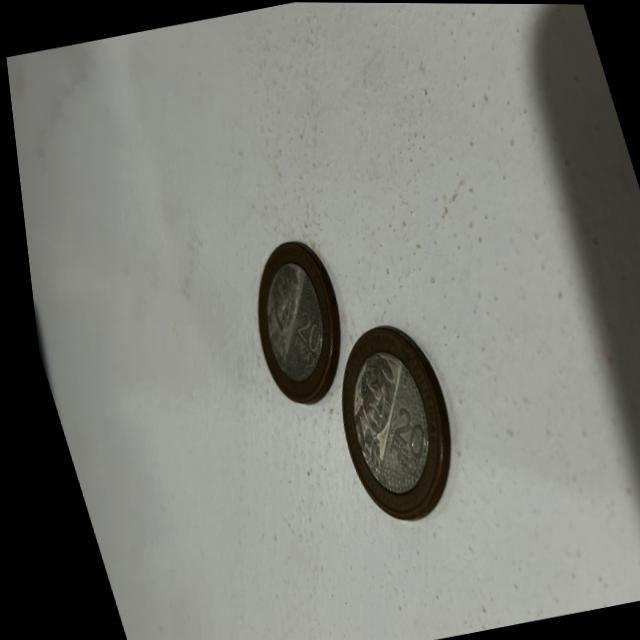20_New_Front: (363, 396, 437, 483), (267, 306, 332, 375)
